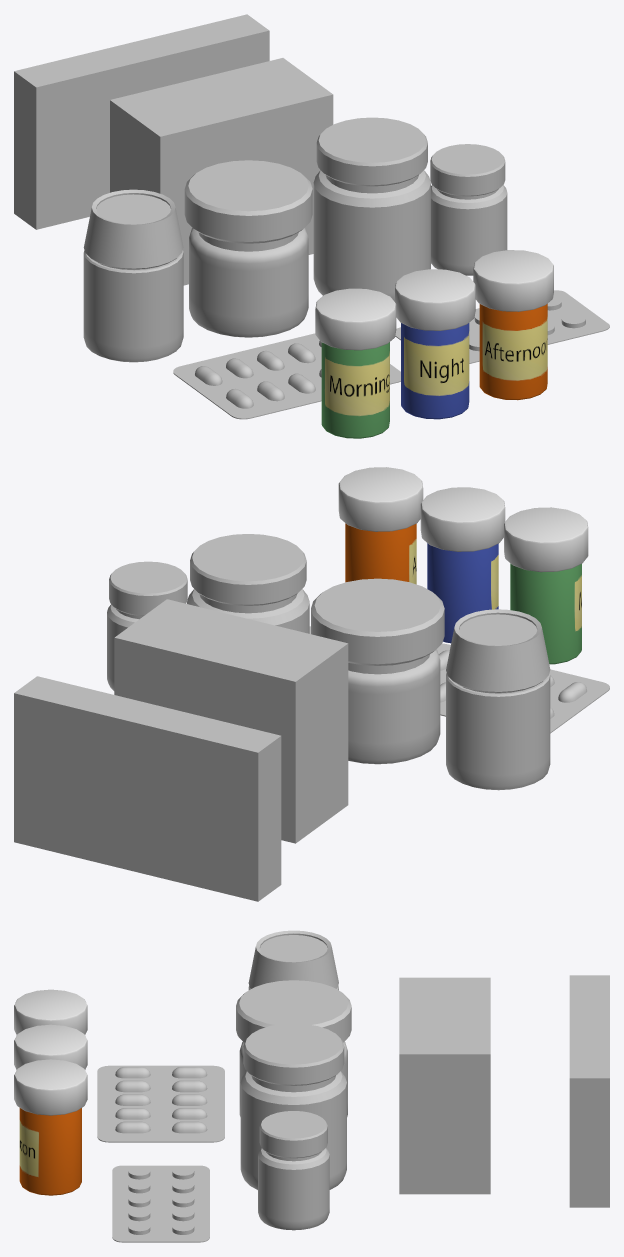
Rendered from SM_Medicines.fbx.
The picture shows the model from 3 angles, top to bottom: view 1: azimuth 30°, elevation 25°; view 2: azimuth 150°, elevation 25°; view 3: azimuth 270°, elevation 25°; orthographic projection. The views are drawn at different scales.
Parts seen in each view (by area): view 1: med_MedBox2, med_MedBox1, med_Pills2, med_Pills3, med_Pills1, med_Pills4, med_Meds1, pillsAfternoon, pillsMorning, pillsNight, Cap.001, Cap (+2 smaller); view 2: med_MedBox2, med_MedBox1, med_Pills2, med_Pills1, med_Pills3, pillsMorning, Cap.001, Cap, Cap.002, pillsNight, med_Pills4, pillsAfternoon (+1 smaller); view 3: med_MedBox1, med_Pills3, med_Meds1, med_MedBox2, med_Pills4, med_Meds2, med_Pills2, pillsAfternoon, med_Pills1, Cap.002, Cap.001, Cap.
Part boxes in pixels (bbox=[...]): med_MedBox2: bbox=[14, 14, 269, 229]; med_MedBox1: bbox=[110, 58, 333, 285]; med_Pills2: bbox=[184, 160, 312, 337]; med_Pills3: bbox=[313, 117, 430, 301]; med_Pills1: bbox=[83, 189, 183, 362]; med_Pills4: bbox=[430, 144, 507, 275]; med_Meds1: bbox=[173, 333, 400, 419]; pillsAfternoon: bbox=[479, 304, 547, 400]; pillsMorning: bbox=[321, 342, 389, 438]; pillsNight: bbox=[401, 323, 469, 419]; Cap.001: bbox=[315, 288, 396, 350]; Cap: bbox=[395, 269, 475, 330]; med_MedBox2: bbox=[14, 676, 281, 901]; med_MedBox1: bbox=[114, 599, 348, 843]; med_Pills2: bbox=[311, 578, 444, 764]; med_Pills1: bbox=[446, 609, 550, 790]; med_Pills3: bbox=[187, 534, 309, 633]; pillsMorning: bbox=[510, 563, 581, 664]; Cap.001: bbox=[504, 507, 588, 572]; Cap: bbox=[420, 487, 505, 551]; Cap.002: bbox=[338, 467, 423, 531]; pillsNight: bbox=[427, 543, 498, 643]; med_Pills4: bbox=[107, 561, 187, 690]; pillsAfternoon: bbox=[345, 523, 416, 584]; med_MedBox1: bbox=[399, 977, 490, 1194]; med_Pills3: bbox=[240, 1023, 346, 1189]; med_Meds1: bbox=[97, 1065, 224, 1142]; med_MedBox2: bbox=[569, 975, 609, 1207]; med_Pills4: bbox=[258, 1111, 329, 1230]; med_Meds2: bbox=[112, 1165, 209, 1242]; med_Pills2: bbox=[236, 980, 351, 1116]; pillsAfternoon: bbox=[19, 1108, 81, 1195]; med_Pills1: bbox=[248, 930, 338, 990]; Cap.002: bbox=[14, 1059, 87, 1115]; Cap.001: bbox=[14, 989, 87, 1034]; Cap: bbox=[14, 1024, 87, 1069].
Bounding box in the file's own units: 24.89 × 8.78 × 33.47.
